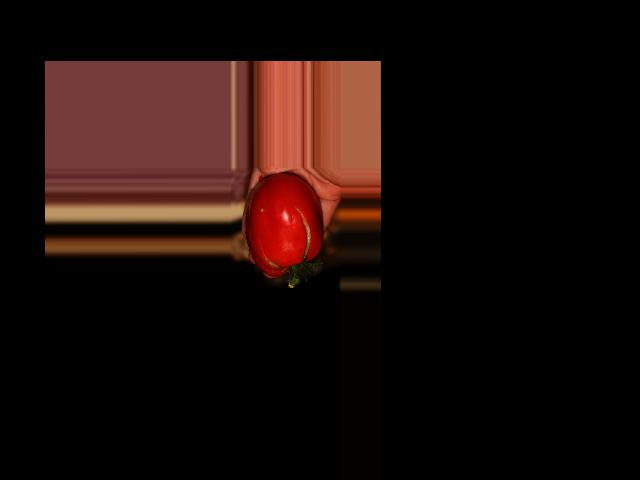tomato: (244, 172, 322, 277)
